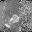people: (10, 15, 20, 24)
